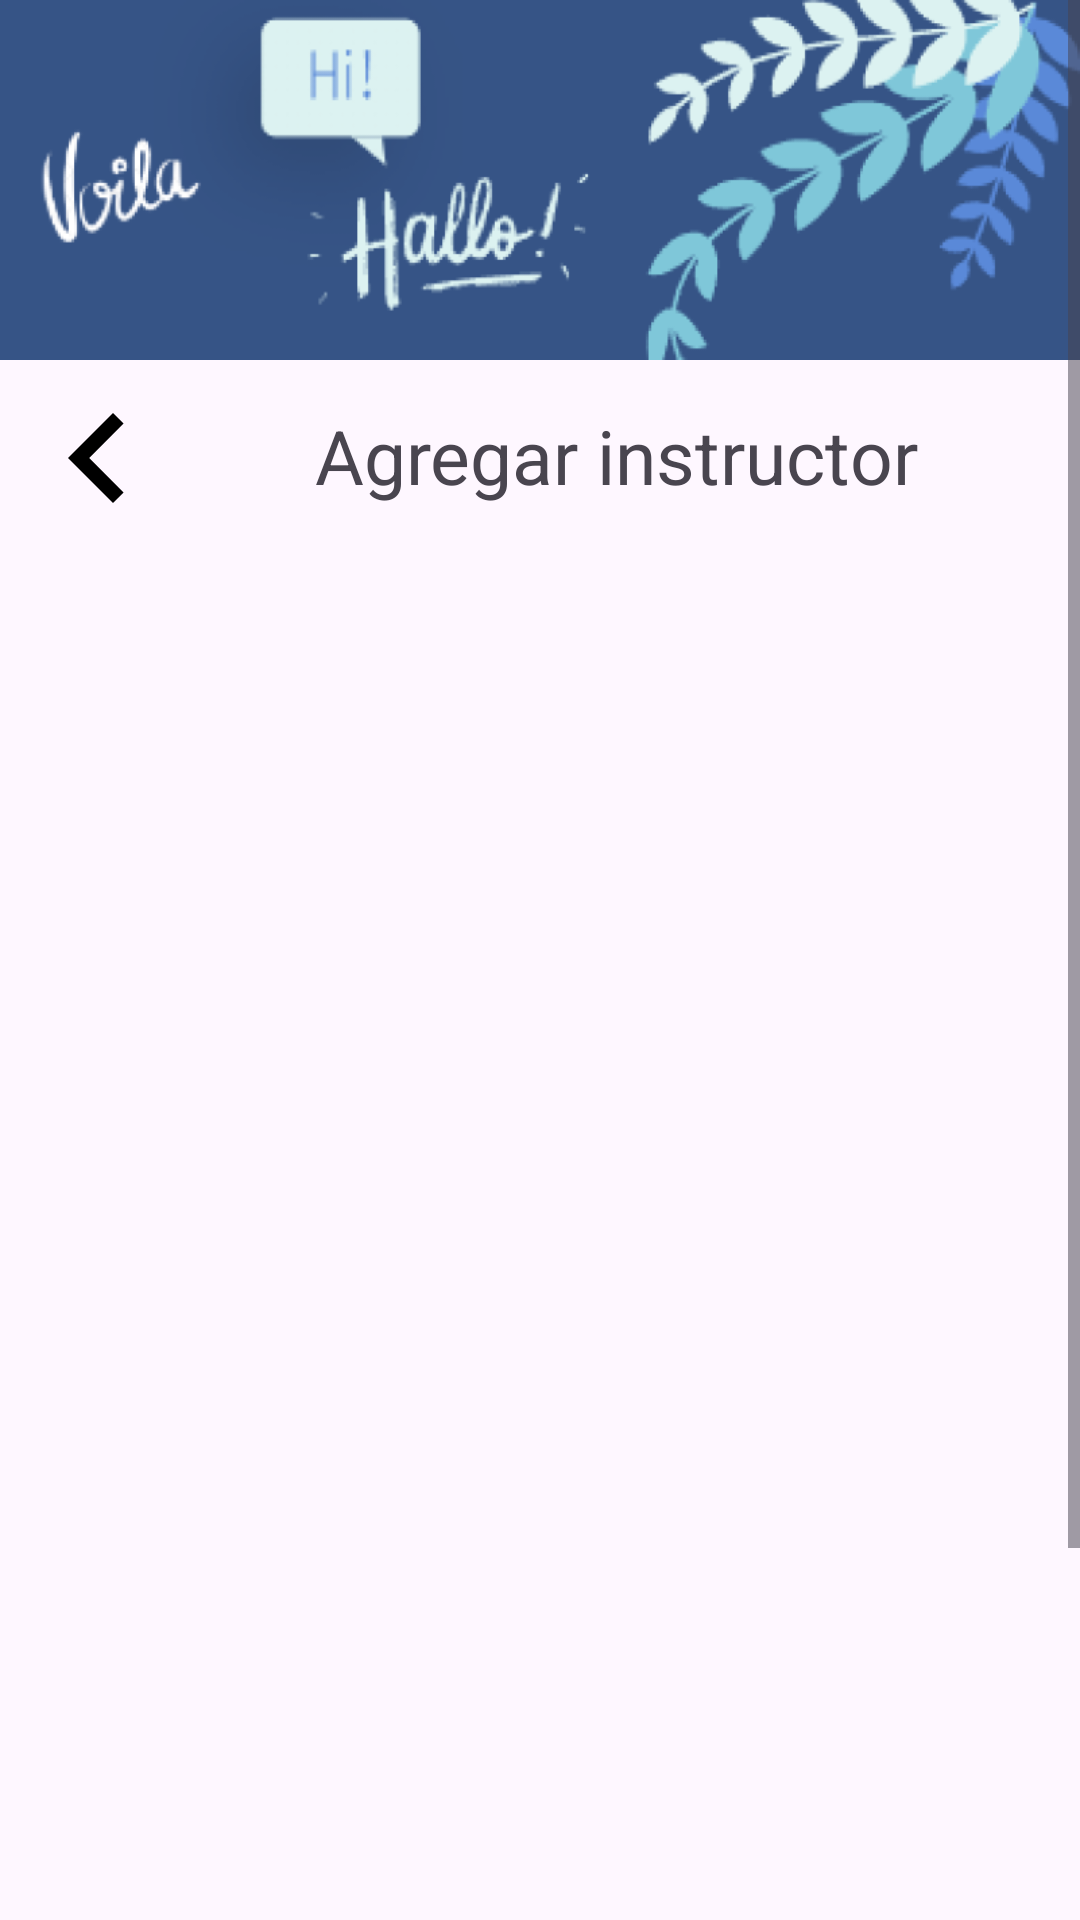

Where icons sit on this 1080x1920 app screen, as (x1, y1, x2, y2):
chevron left: (68, 413, 124, 503)
